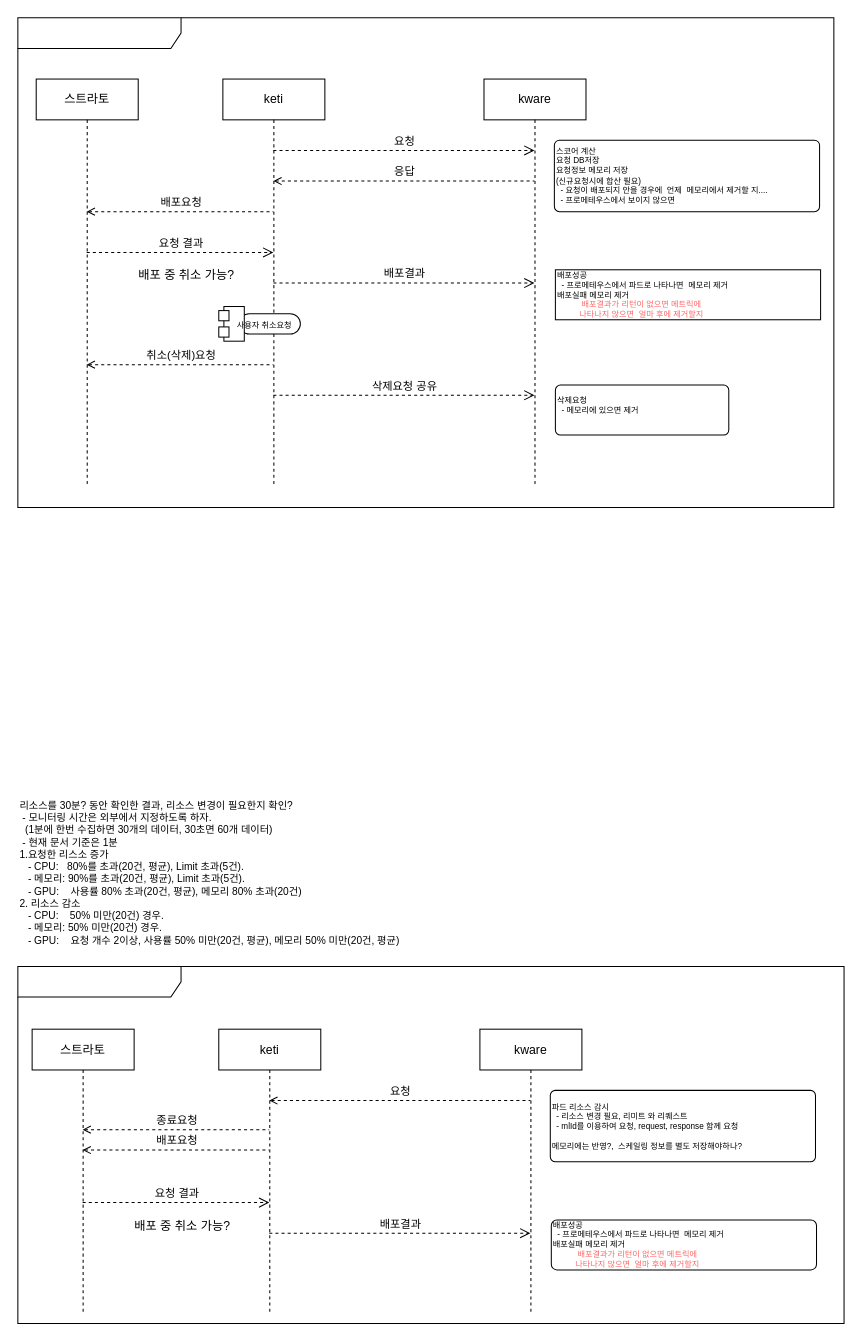
Image size: 862x1341. Some labels were removed from this diagram. Here are the shapes that lost their labels. From the top down, the centre of each, then its label:
At (x=425, y=262): "배포요청 시퀀스".
At (x=430, y=1144): "스케일링 시퀀스".
